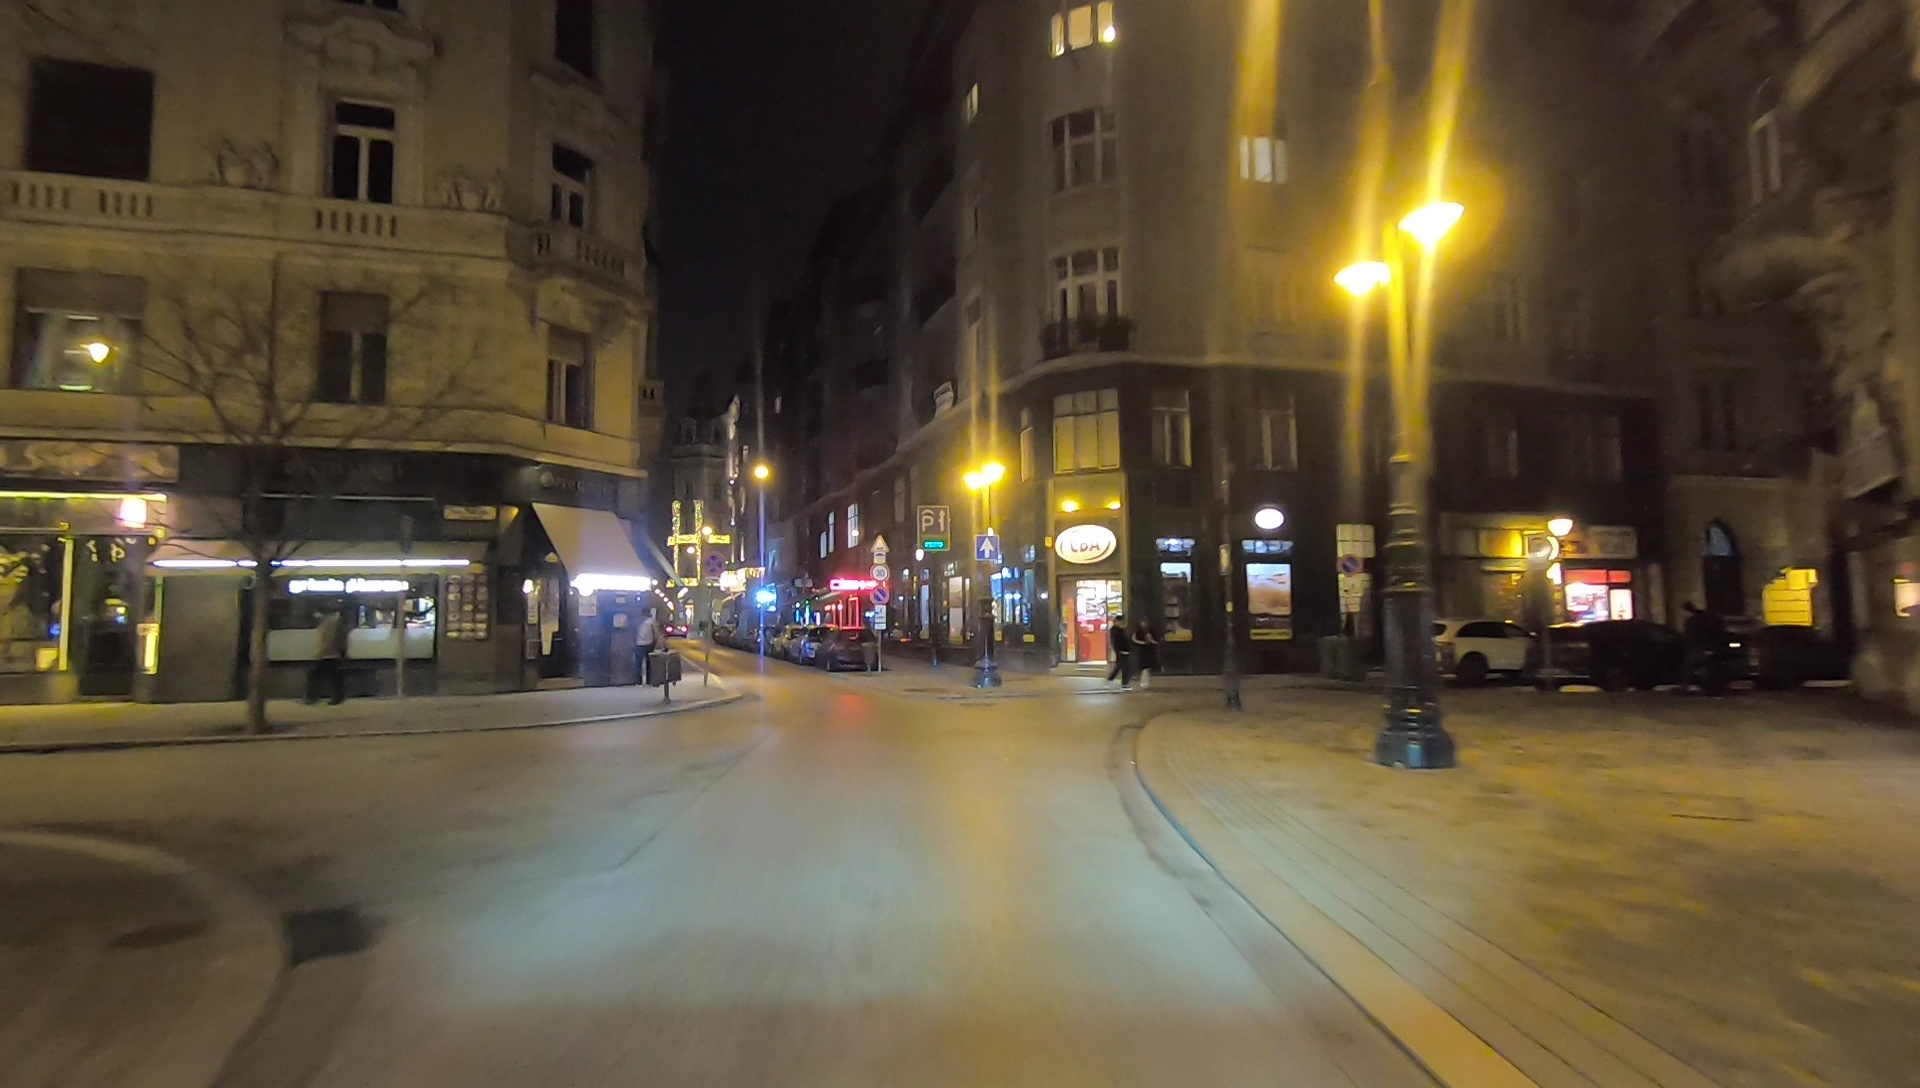person: (302, 593, 351, 710), (632, 611, 665, 689), (1106, 611, 1134, 687), (1134, 619, 1162, 689)
